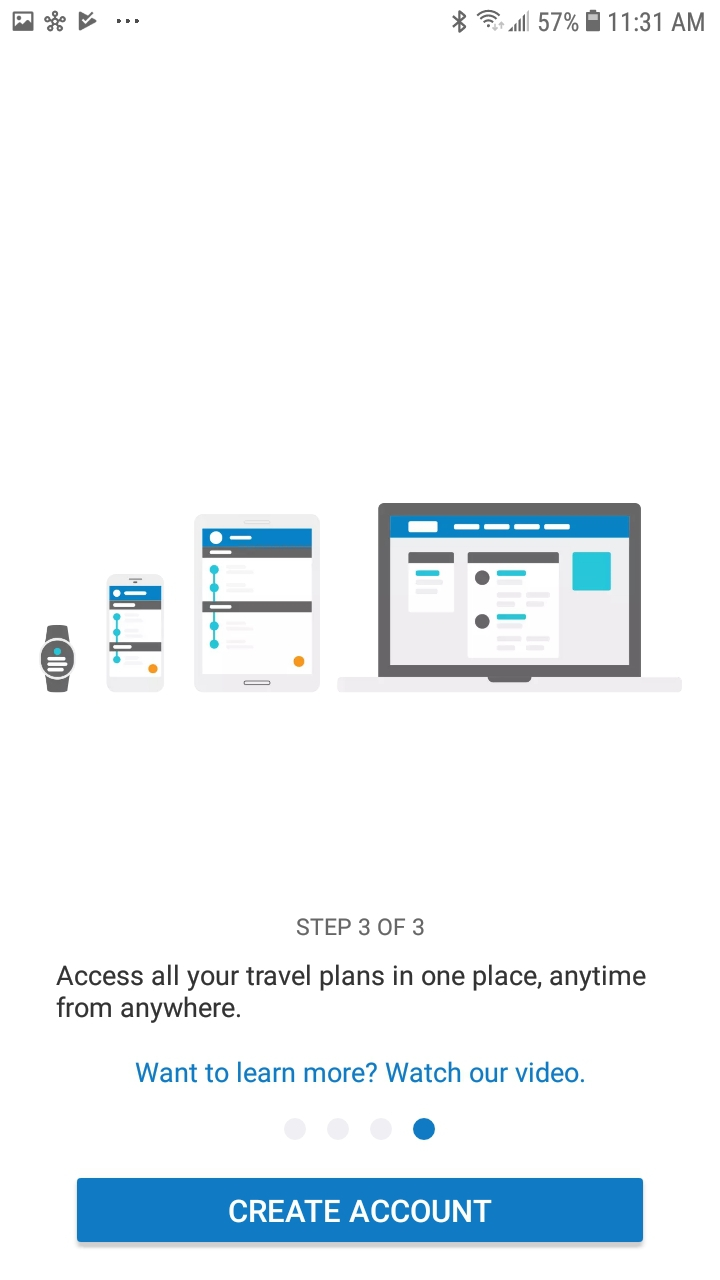Image: (39, 503, 683, 694)
PageIndicator: (284, 1117, 436, 1141)
Text: (57, 964, 647, 1024), (136, 1061, 585, 1084), (297, 917, 425, 937)
TextButton: (77, 1178, 644, 1243)
UpperTaskBar: (1, 1, 720, 35)
